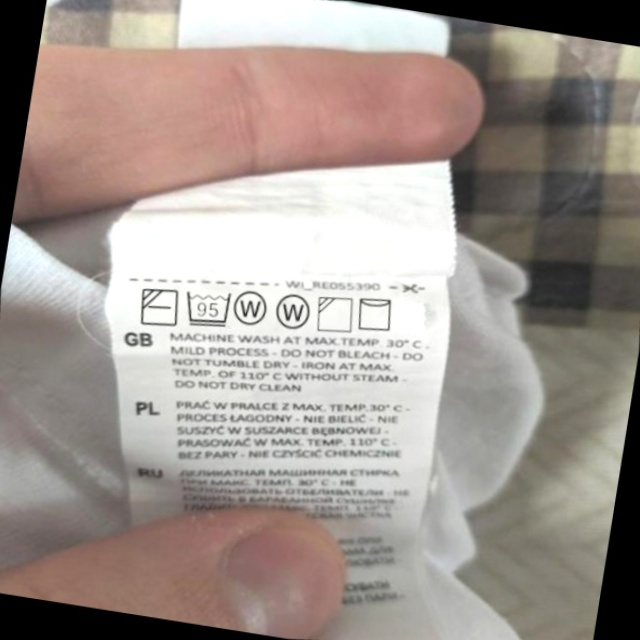95C: (179, 282, 238, 333)
dry_flat_in_shade: (134, 280, 184, 333)
line_dry: (351, 289, 400, 338)
shade_dry: (311, 290, 360, 339)
wet_clean: (270, 288, 317, 337), (229, 282, 275, 332)
